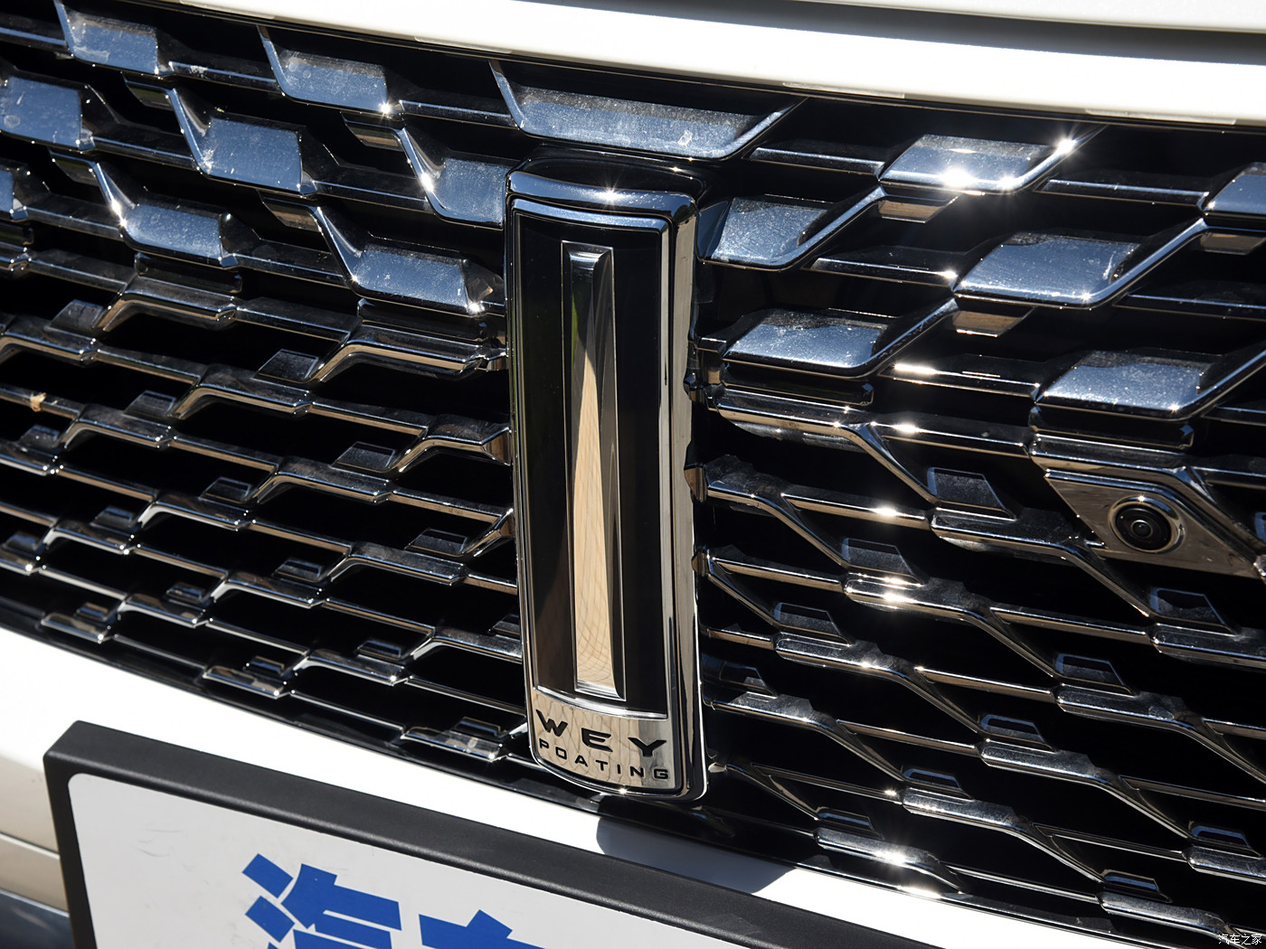WEY: (506, 171, 691, 796)
